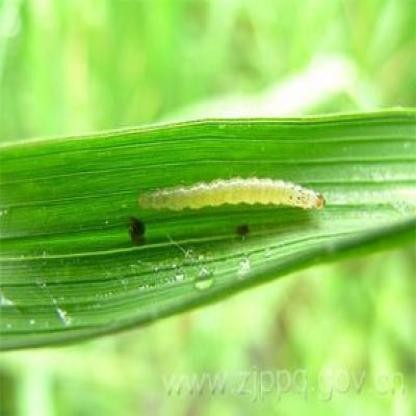leaf-folder: (129, 140, 338, 249)
